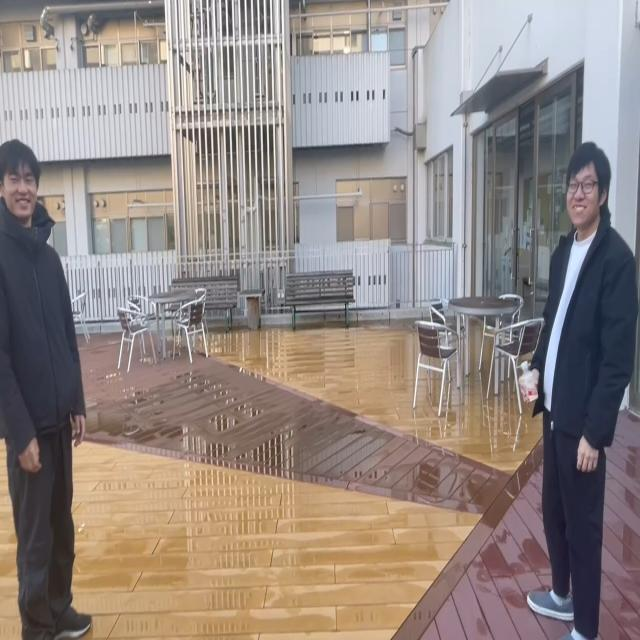bottle: (518, 360, 539, 404)
